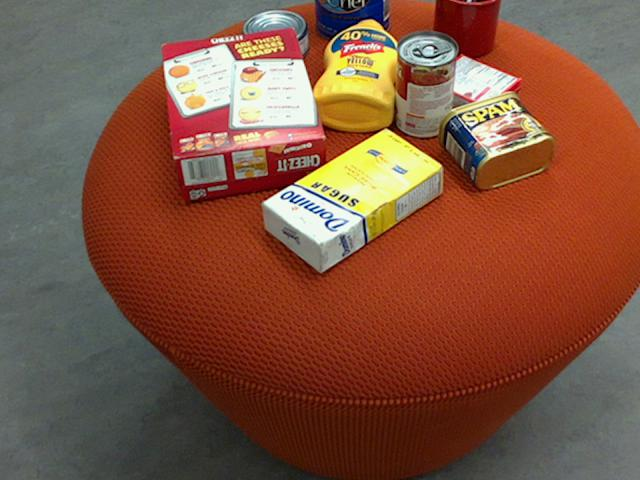cracker_box: (159, 25, 326, 198)
gelatin_box: (427, 55, 521, 123)
large_marker: (447, 0, 475, 49)
master_chef_can: (314, 0, 389, 41)
mug: (431, 0, 500, 57)
mustard_bottle: (310, 19, 401, 131)
potted_meat_can: (436, 91, 553, 189)
sugar_box: (261, 127, 443, 273)
tomato_soup_can: (394, 30, 456, 137)
tuna_fish_can: (240, 9, 307, 64)
